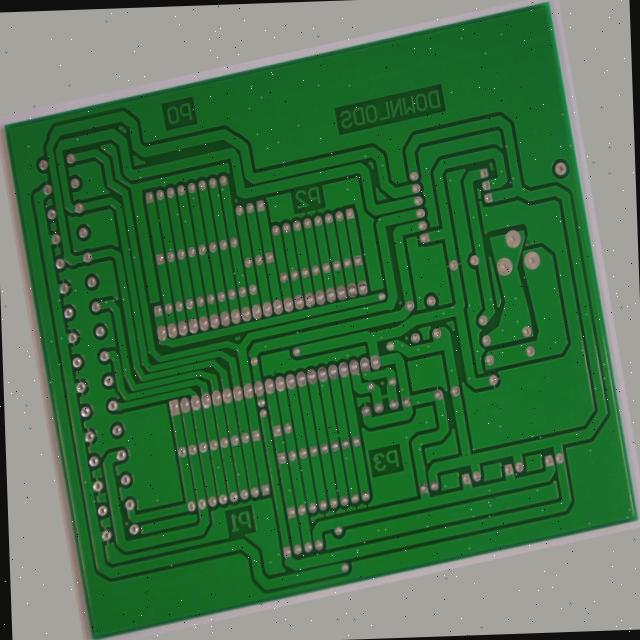short: (369, 408, 390, 440), (146, 153, 167, 178), (315, 447, 332, 471)
